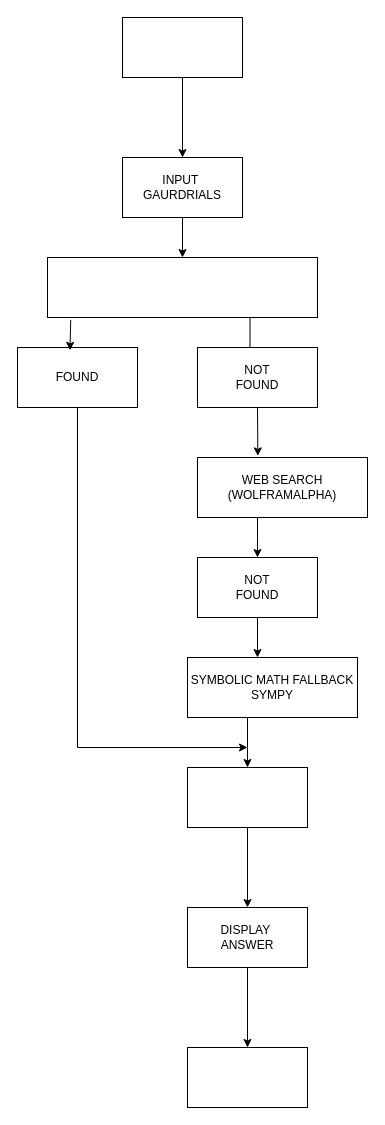
Some shapes in this 385 by 1125 pixel diagram are drawn without their labels. The shapes that lost their labels are listed below. From the top down, each one's centre as x and y in pixels, then its label:
At point (182, 47): "USER INPUT".
At point (182, 287): "KNOWLEDGE BASE".
At point (247, 797): "OUTPUT GAURDRAILS".
At point (247, 1077): "USER FEEDBACK".
